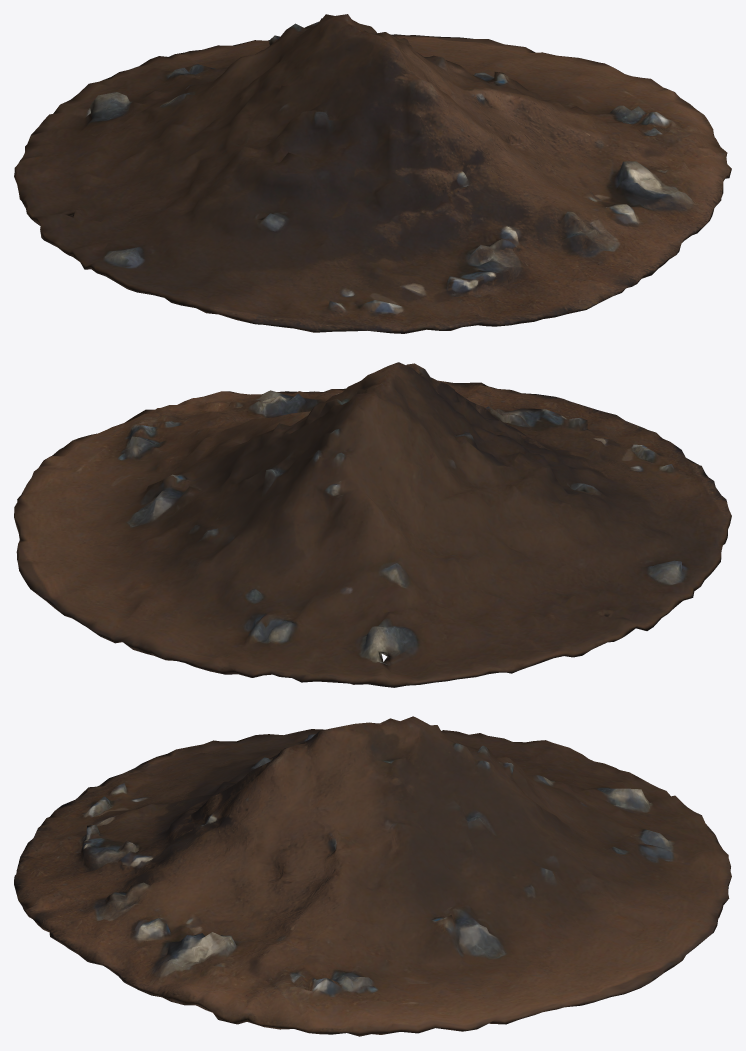
Rendered from generate_me_a_small_p_0825091644_texture.fbx.
3 renders of one model, top to bottom at view 1: azimuth 30°, elevation 25°; view 2: azimuth 150°, elevation 25°; view 3: azimuth 270°, elevation 25°, orthographic.
Visible parts, largest first — view 1: Mesh1.0; view 2: Mesh1.0; view 3: Mesh1.0.
Part boxes in pixels (bbox=[...]): Mesh1.0: bbox=[14, 14, 731, 333]; Mesh1.0: bbox=[14, 362, 731, 687]; Mesh1.0: bbox=[14, 716, 731, 1036].
Size of the model in its own units: 197 by 49.65 by 200.
1 material, 1 textured.
